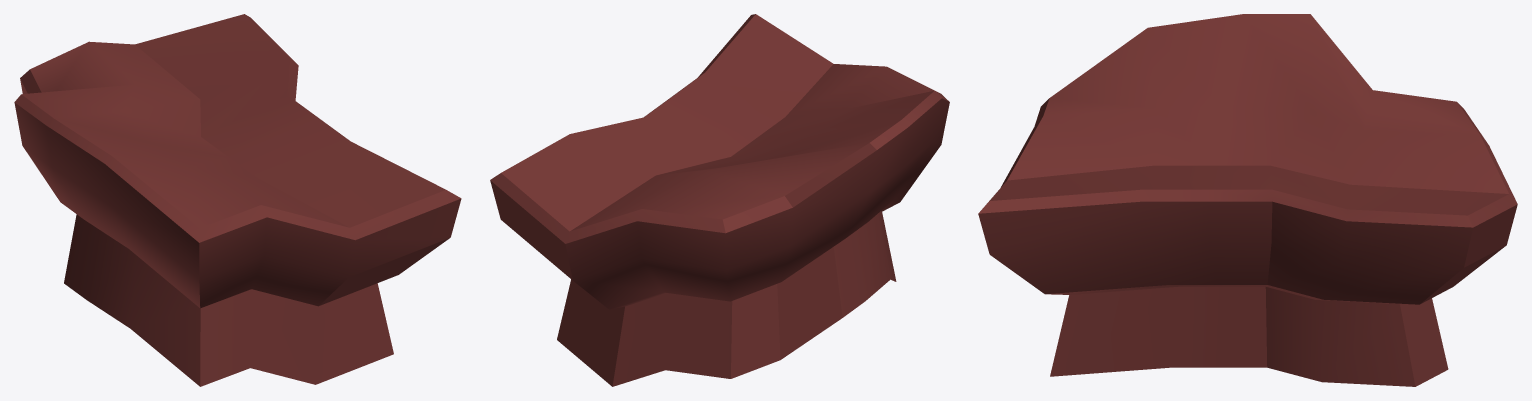
File: Canyon_A.fbx
3 views of the same model, side by side, from view 1: azimuth 30°, elevation 25°; view 2: azimuth 150°, elevation 25°; view 3: azimuth 270°, elevation 25° (orthographic). The views are drawn at different scales.
Parts seen in each view (by area): view 1: Canyon_A; view 2: Canyon_A; view 3: Canyon_A.
Boxes of the visible parts, left/top/right/bottom form: Canyon_A: left=14, top=14, right=461, bottom=386; Canyon_A: left=490, top=14, right=949, bottom=386; Canyon_A: left=978, top=14, right=1517, bottom=386.
Bounding box in the file's own units: 3141 × 2357 × 4490.
